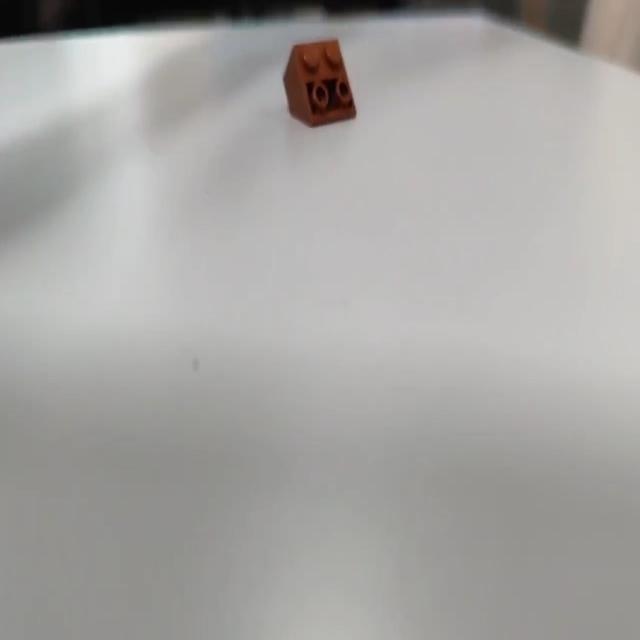X2x2x1: (282, 36, 356, 128)
